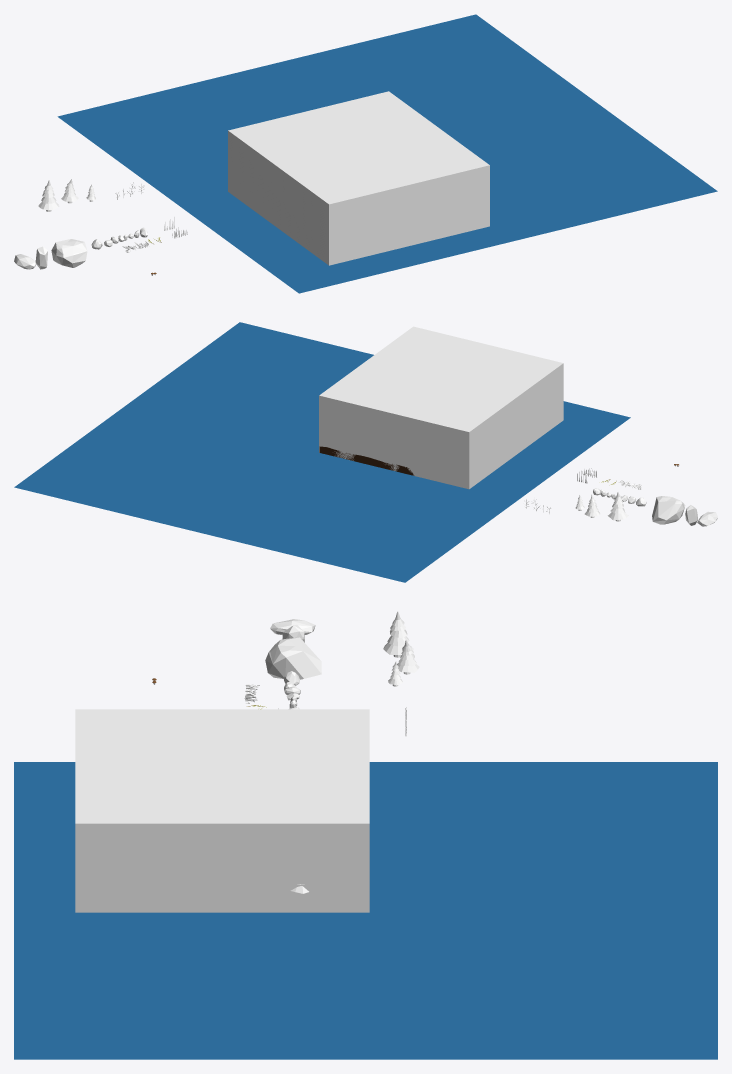
Rendered from forest-pond.glb.
3 renders of one model, top to bottom at view 1: azimuth 30°, elevation 25°; view 2: azimuth 150°, elevation 25°; view 3: azimuth 270°, elevation 25°, orthographic. The views are drawn at different scales.
Visible parts, largest first — view 1: Plane.001, Cube.001, rock.003; view 2: Plane.001, Cube.001, rock.003, Ground; view 3: Plane.001, Cube.001, rock.003.
Boxes of the visible parts, left/top/right/bottom form: Plane.001: left=57, top=14, right=717, bottom=293; Cube.001: left=228, top=91, right=489, bottom=265; rock.003: left=51, top=239, right=87, bottom=267; Plane.001: left=14, top=322, right=630, bottom=582; Cube.001: left=319, top=326, right=563, bottom=489; rock.003: left=652, top=496, right=685, bottom=524; Ground: left=319, top=446, right=414, bottom=475; Plane.001: left=14, top=762, right=717, bottom=1059; Cube.001: left=75, top=709, right=369, bottom=912; rock.003: left=265, top=637, right=321, bottom=679.
Bounding box in the file's own units: 33.66 × 3.92 × 23.29.
